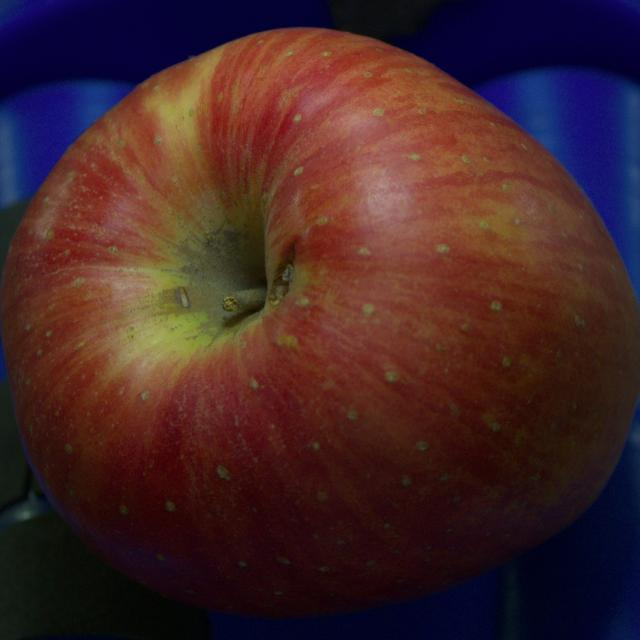apple: (0, 28, 639, 616)
scratch: (265, 244, 294, 304), (178, 287, 188, 307)
